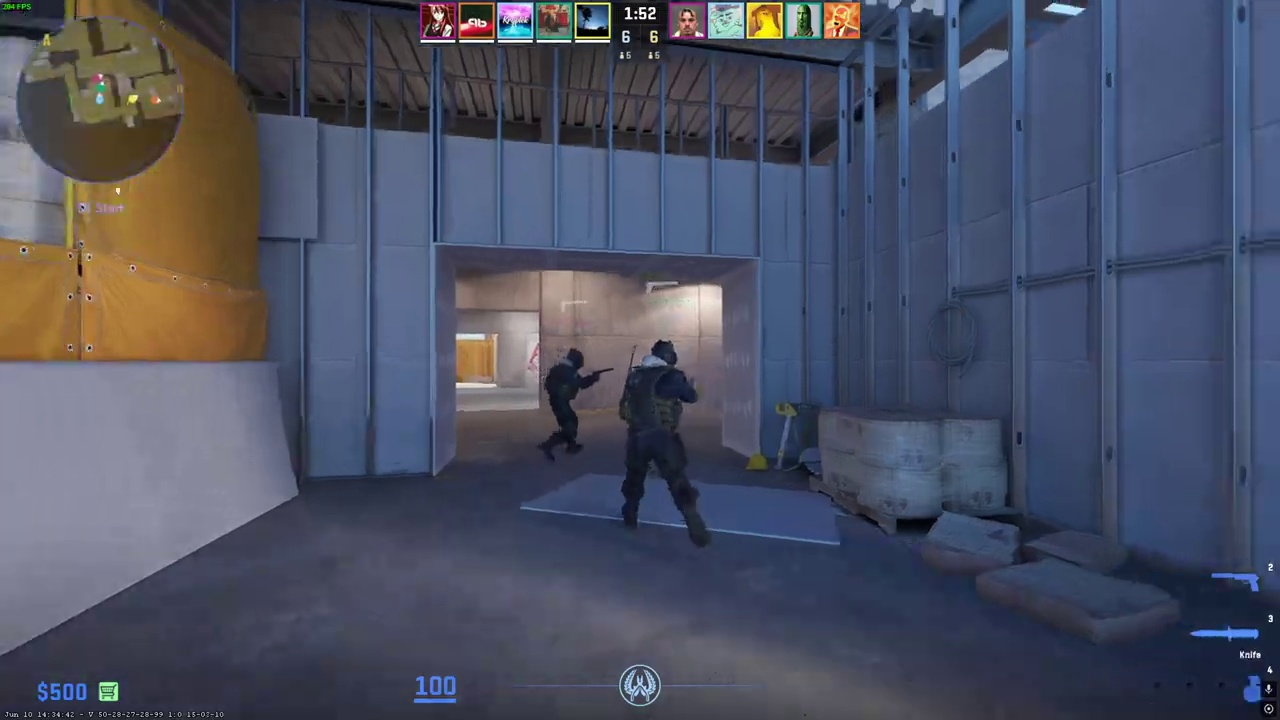CT: (619, 339, 708, 548), (541, 347, 590, 463)
